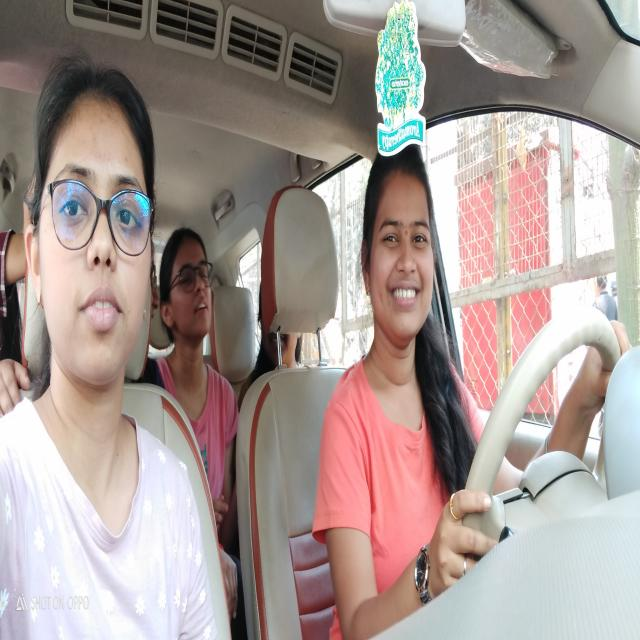person: (17, 46, 159, 414), (360, 128, 438, 358), (161, 218, 218, 352)
